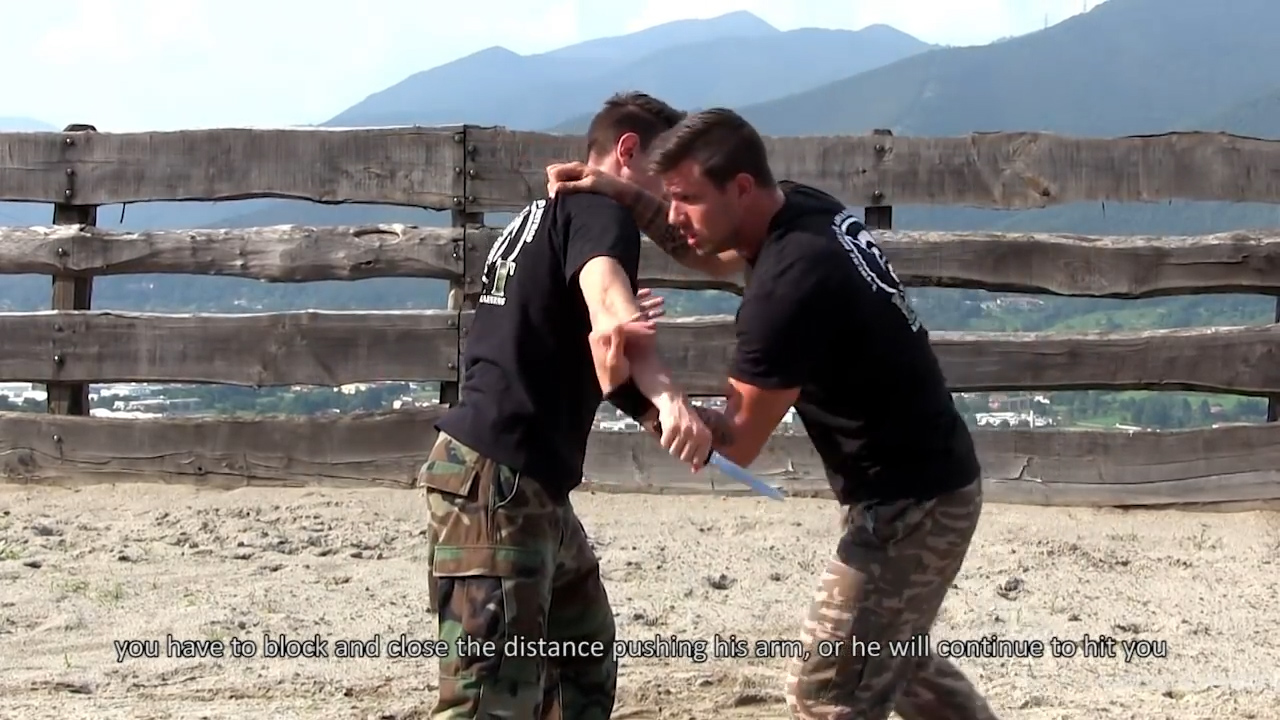knife: (649, 415, 801, 512)
